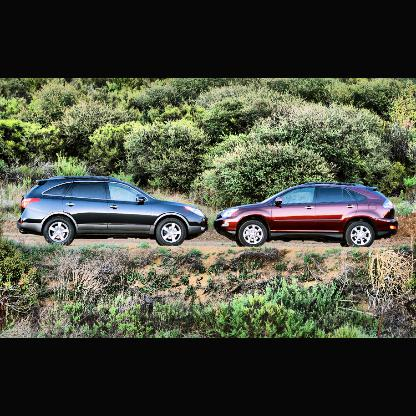Hyundai Veracruz SUV 2012: (18, 175, 209, 248)
